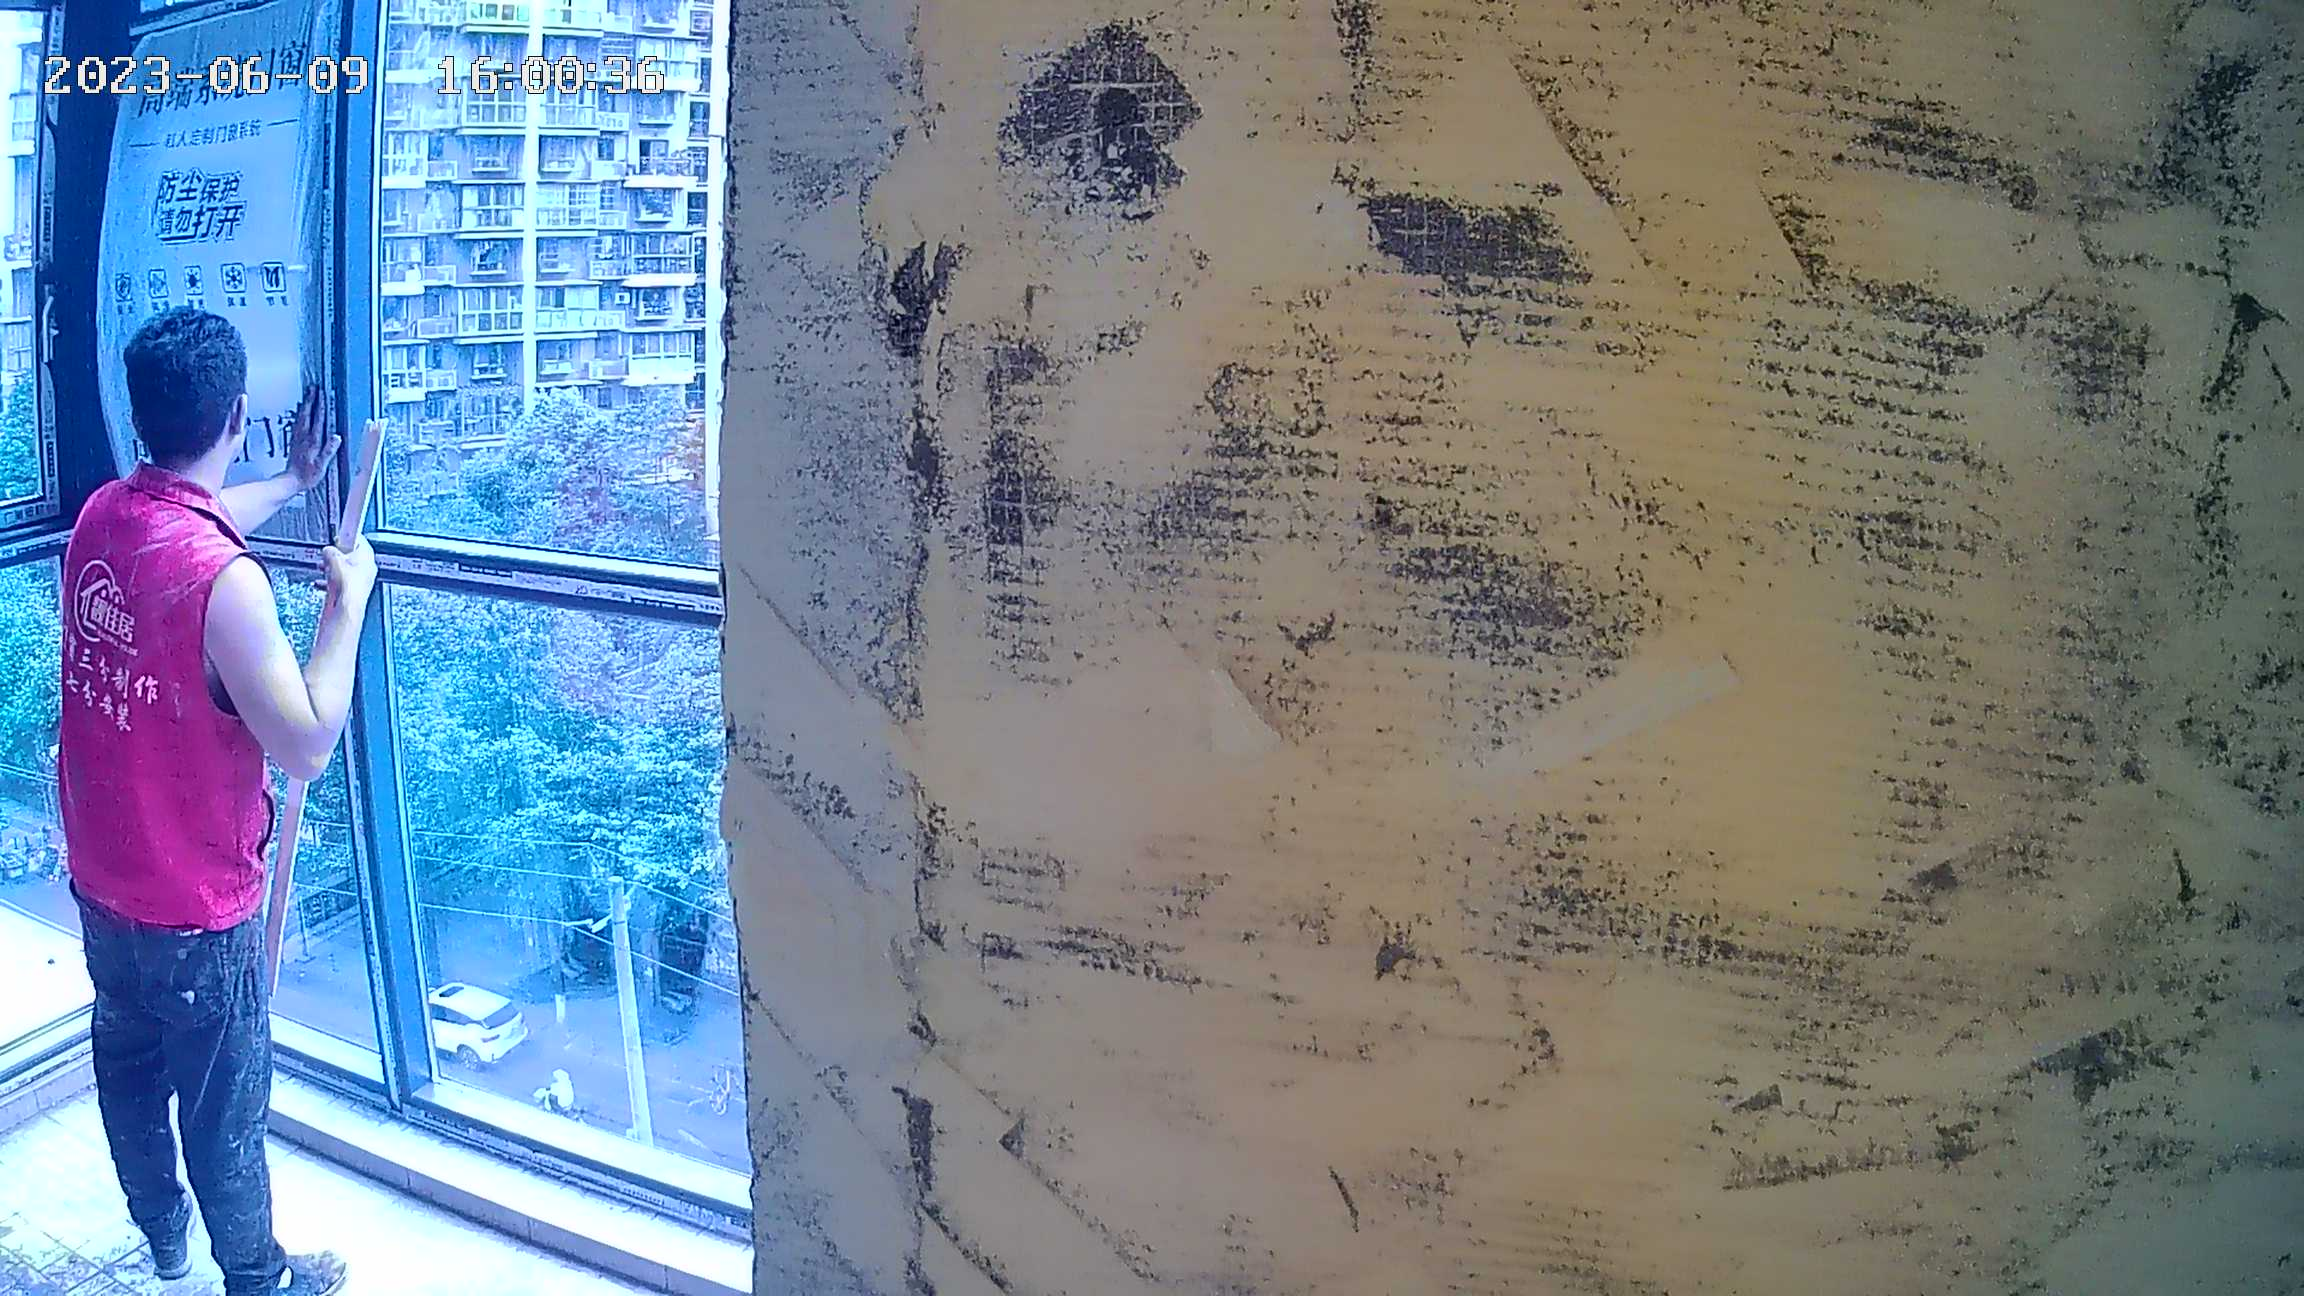people: (53, 303, 384, 1296)
window: (1, 4, 734, 1275)
